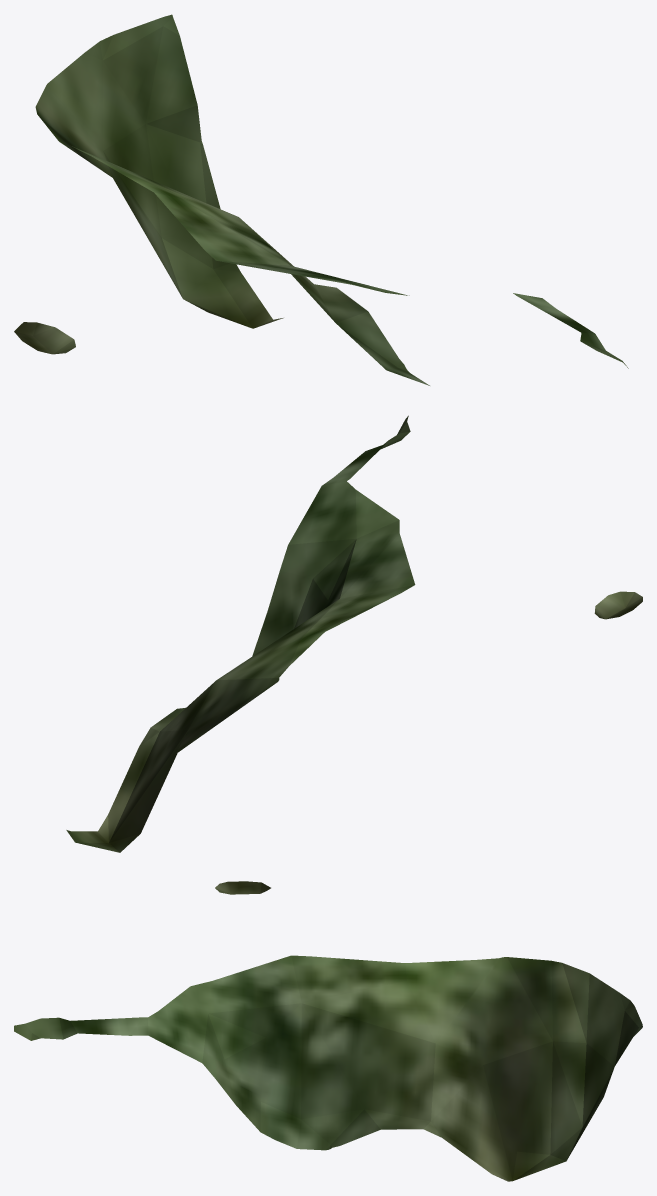
3 renders of one model, top to bottom at view 1: azimuth 30°, elevation 25°; view 2: azimuth 150°, elevation 25°; view 3: azimuth 270°, elevation 25°, orthographic. The views are drawn at different scales.
Size of the model in its own units: 0.83 by 0.4236 by 1.51.
1 material, 1 textured.
